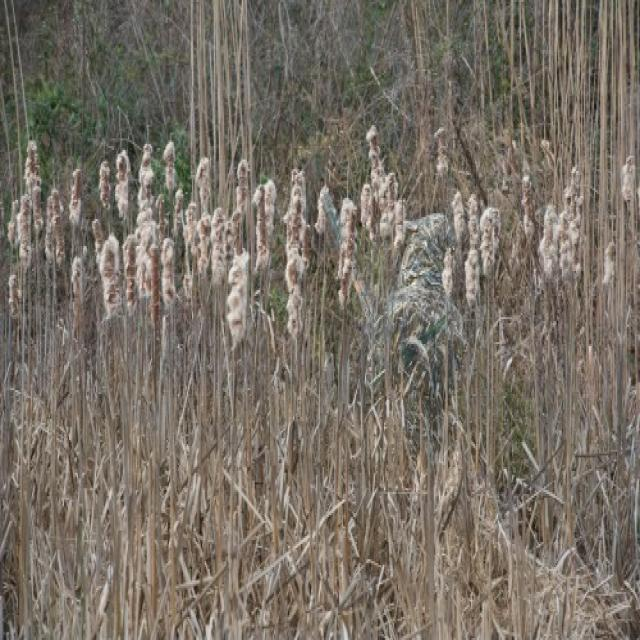Camouflage: (320, 188, 469, 453)
